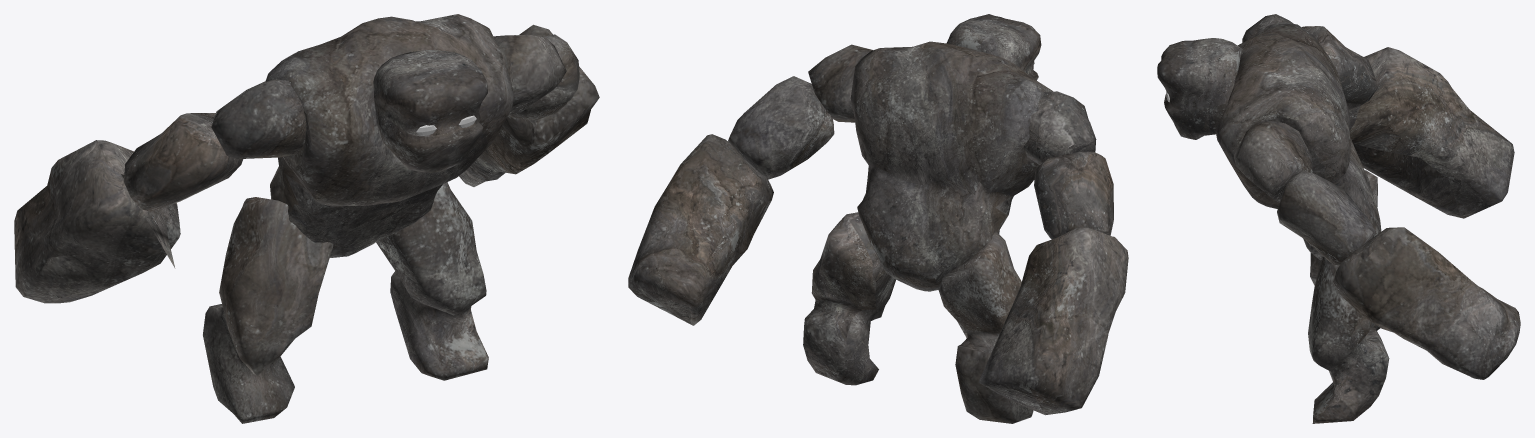
The model's file is jump_000009.obj.
3 renders of one model, left to right at view 1: azimuth 30°, elevation 25°; view 2: azimuth 150°, elevation 25°; view 3: azimuth 270°, elevation 25°, orthographic. The views are drawn at different scales.
Parts seen in each view (by area): view 1: hands&leg.001_ice.003, torso.001_ice.005, head.001_ice.004; view 2: hands&leg.001_ice.003, torso.001_ice.005, head.001_ice.004; view 3: hands&leg.001_ice.003, torso.001_ice.005, head.001_ice.004.
Part boxes in pixels (left/top/right/bottom): hands&leg.001_ice.003: left=14, top=24, right=599, bottom=423; torso.001_ice.005: left=265, top=14, right=514, bottom=257; head.001_ice.004: left=373, top=50, right=487, bottom=172; hands&leg.001_ice.003: left=628, top=44, right=1128, bottom=423; torso.001_ice.005: left=850, top=41, right=1052, bottom=291; head.001_ice.004: left=947, top=14, right=1041, bottom=80; hands&leg.001_ice.003: left=1234, top=14, right=1520, bottom=423; torso.001_ice.005: left=1215, top=22, right=1381, bottom=260; head.001_ice.004: left=1157, top=38, right=1242, bottom=139.
Size of the model in its own units: 11.9 by 8.36 by 8.27.
2 materials, 1 textured.
